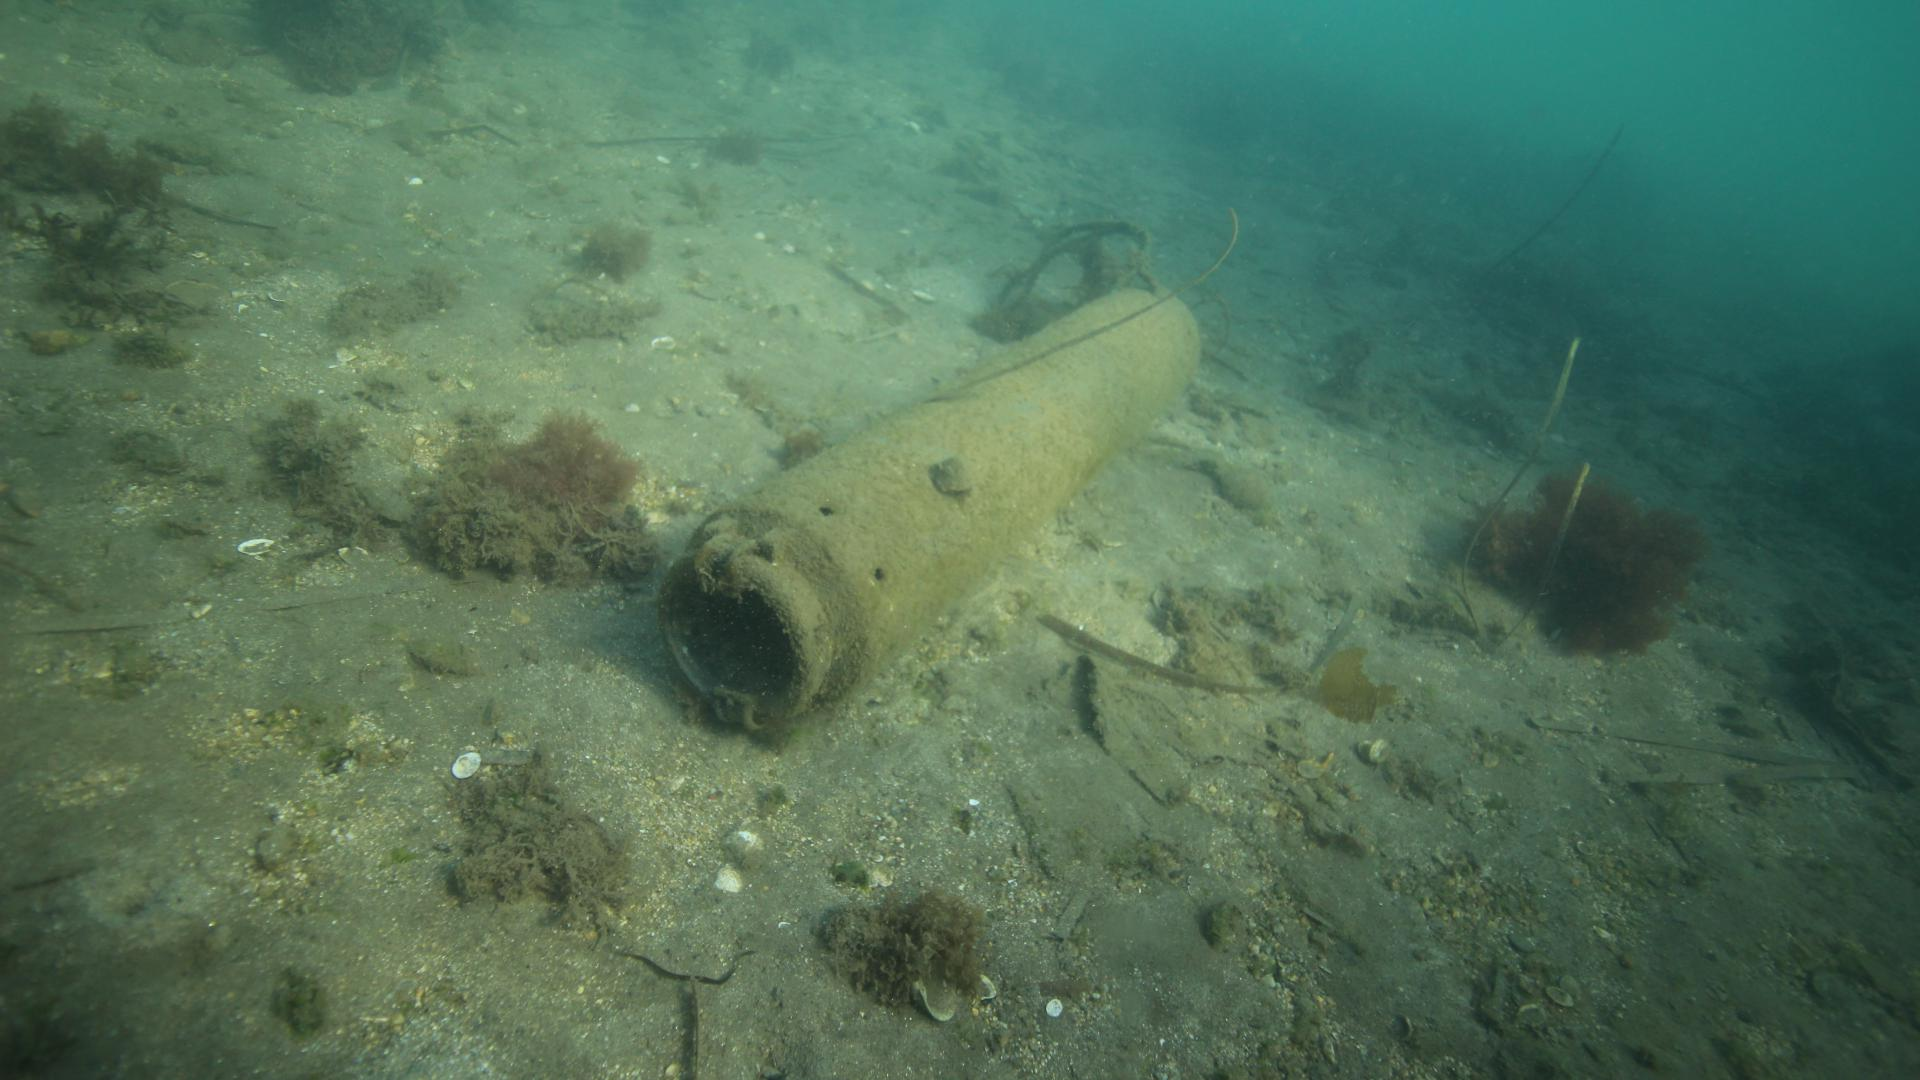eel fish trap: (655, 287, 1208, 733)
